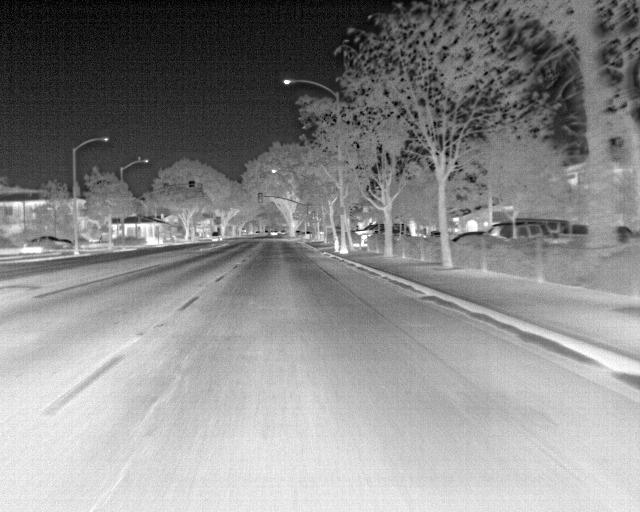bicycle: (521, 217, 570, 237), (29, 235, 73, 250), (516, 223, 545, 241), (486, 222, 510, 240), (352, 222, 380, 236), (209, 229, 223, 241)
